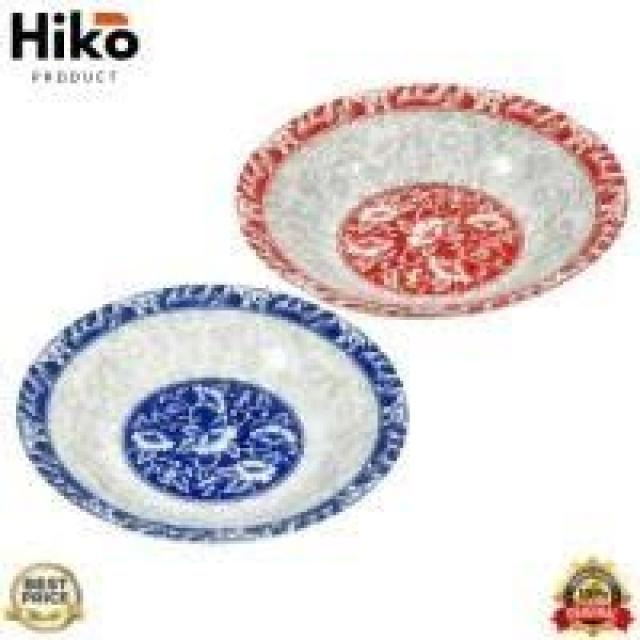Plate: (22, 284, 411, 556), (223, 73, 637, 323)
